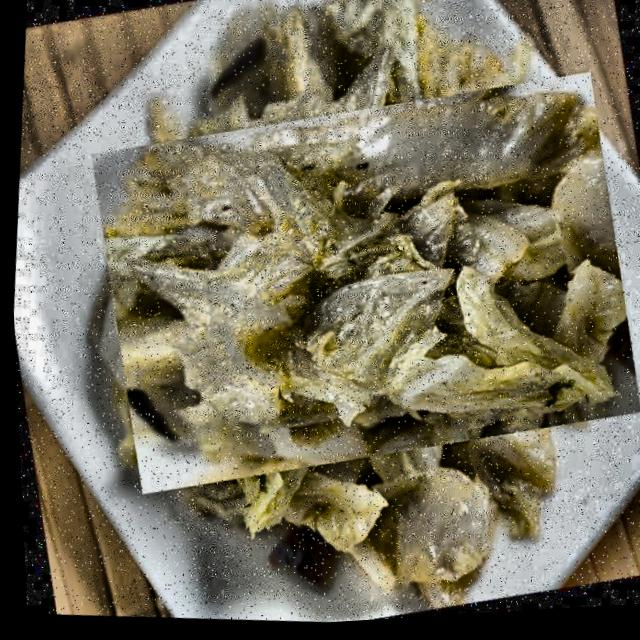Food: (85, 5, 640, 569)
